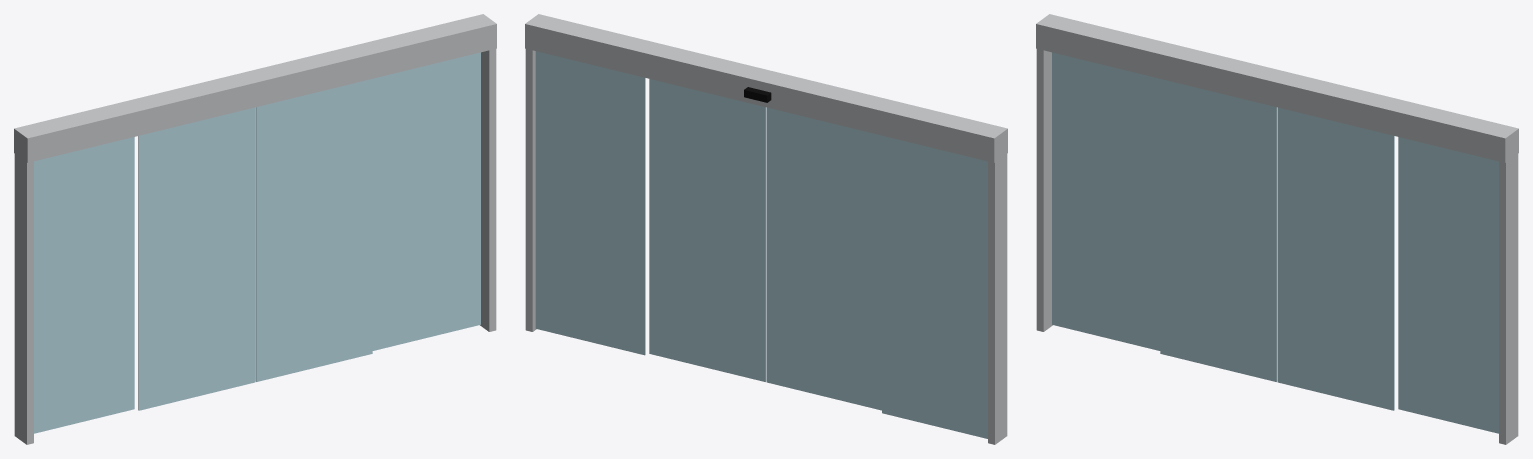
The model's file is opening.door.auto_sliding.glb.
The picture shows the model from 3 angles, left to right: view 1: azimuth 30°, elevation 25°; view 2: azimuth 150°, elevation 25°; view 3: azimuth 330°, elevation 25°; orthographic projection.
Parts seen in each view (by area): view 1: leaf__glass, frame__aluminium; view 2: leaf__glass, frame__aluminium; view 3: leaf__glass, frame__aluminium.
Part boxes in pixels (x1=…): leaf__glass: x1=34, y1=52, x2=480, y2=433; frame__aluminium: x1=14, y1=14, x2=496, y2=444; leaf__glass: x1=535, y1=51, x2=987, y2=438; frame__aluminium: x1=525, y1=14, x2=1007, y2=444; leaf__glass: x1=1052, y1=52, x2=1498, y2=433; frame__aluminium: x1=1036, y1=14, x2=1518, y2=444.
Bounding box in the file's own units: 4 × 2.5 × 0.26.
